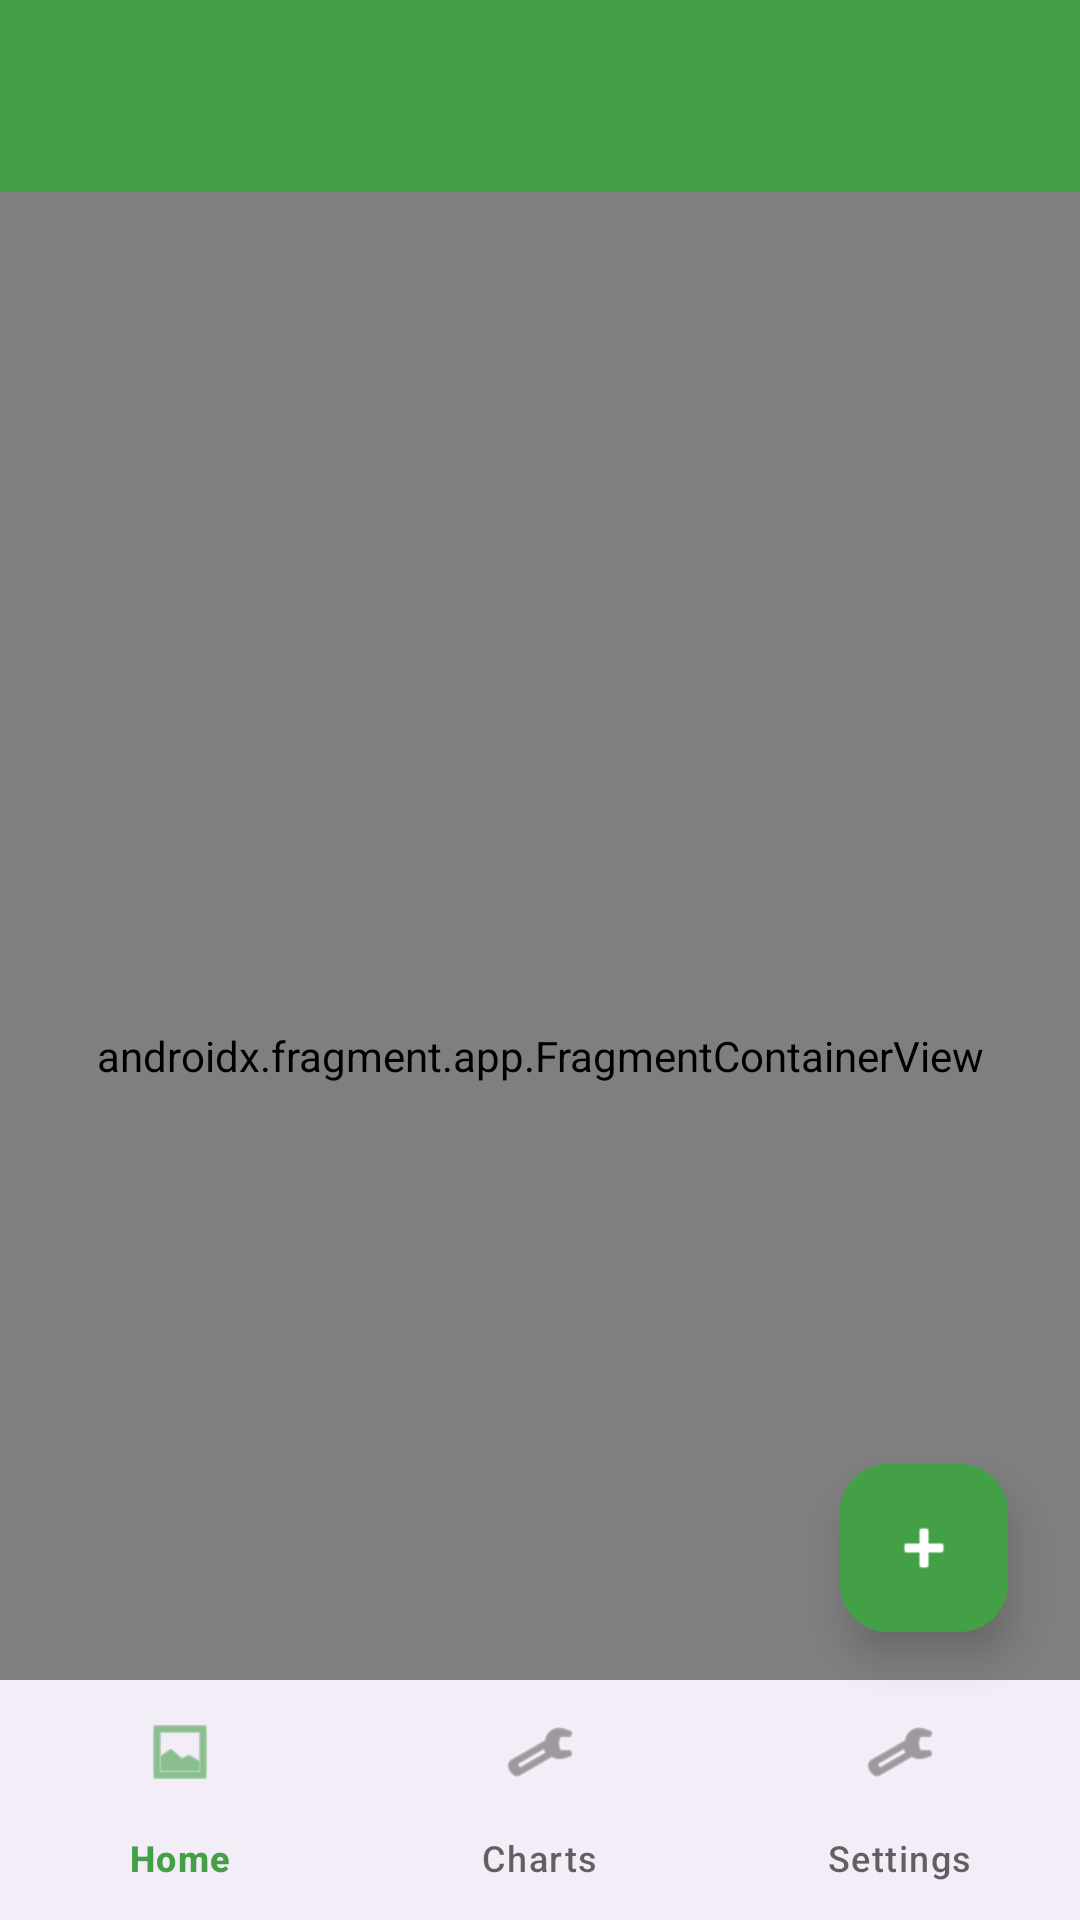

Locate icon controls on the screen. Image size 1080px x 1920px, boxes as box(x1, y1, x2, y2).
add: box(840, 1464, 1008, 1632)
